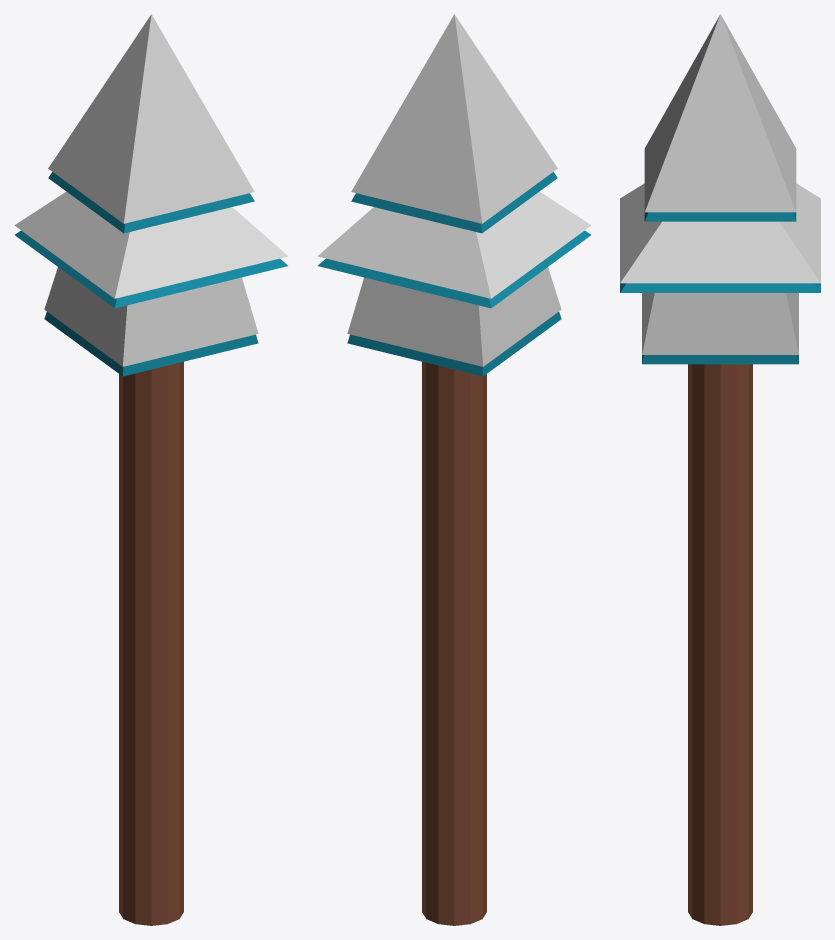
Rendered from Tree_15_winter_blue_mat.fbx.
3 views of the same model, side by side, from view 1: azimuth 30°, elevation 25°; view 2: azimuth 150°, elevation 25°; view 3: azimuth 270°, elevation 25° (orthographic).
Parts seen in each view (by area): view 1: Tree_15_winter_blue_mat; view 2: Tree_15_winter_blue_mat; view 3: Tree_15_winter_blue_mat.
Boxes of the visible parts, <box> form: Tree_15_winter_blue_mat: <box>14,14,288,925</box>; Tree_15_winter_blue_mat: <box>317,14,591,925</box>; Tree_15_winter_blue_mat: <box>620,14,820,925</box>.
Bounding box in the file's own units: 68.73 × 339 × 68.73.
